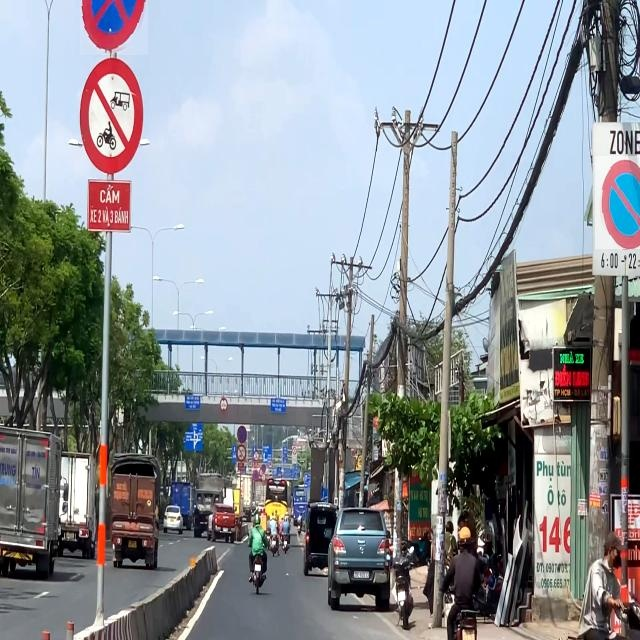bien_cam: (595, 156, 640, 249), (80, 0, 148, 55)
